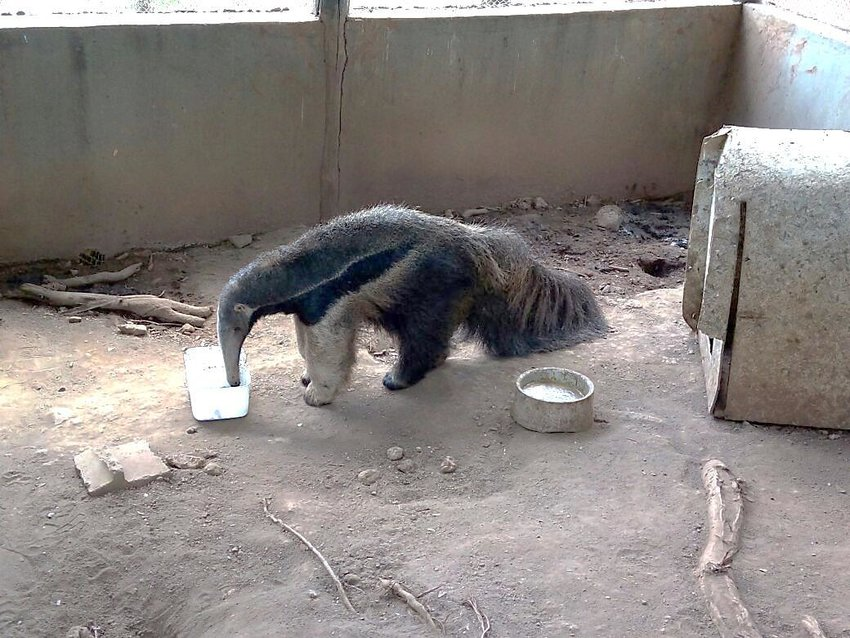TamanduaBandeira: (207, 198, 617, 411)
